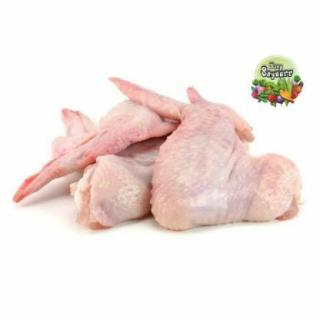Ayam: (17, 73, 305, 232), (109, 73, 303, 231)
